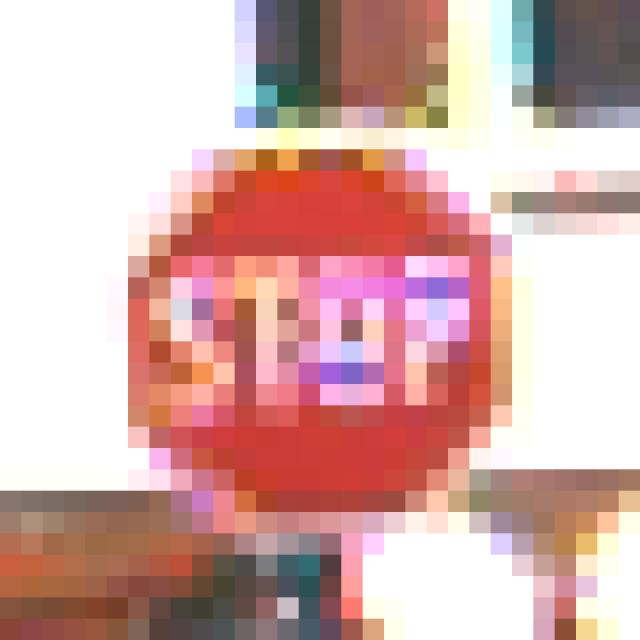STOP: (108, 108, 534, 534)
